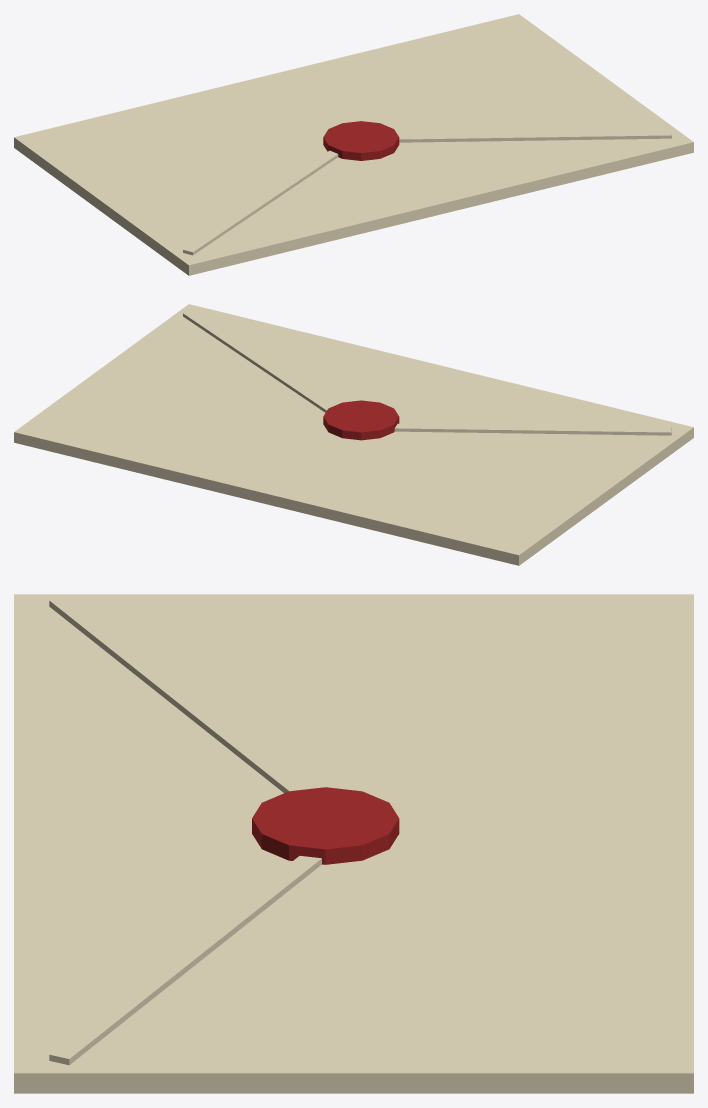
File: Prop_Par_Letter.glb
3 renders of one model, top to bottom at view 1: azimuth 30°, elevation 25°; view 2: azimuth 150°, elevation 25°; view 3: azimuth 270°, elevation 25°, orthographic. The views are drawn at different scales.
Parts seen in each view (by area): view 1: Prop_Par_Letter; view 2: Prop_Par_Letter; view 3: Prop_Par_Letter.
Part boxes in pixels (box(x1,y1,x2,y2)): Prop_Par_Letter: box(14, 14, 693, 275); Prop_Par_Letter: box(14, 304, 693, 565); Prop_Par_Letter: box(14, 594, 693, 1093).
Size of what is drawn, in the model's own units: 0.2 by 0.007 by 0.12.
